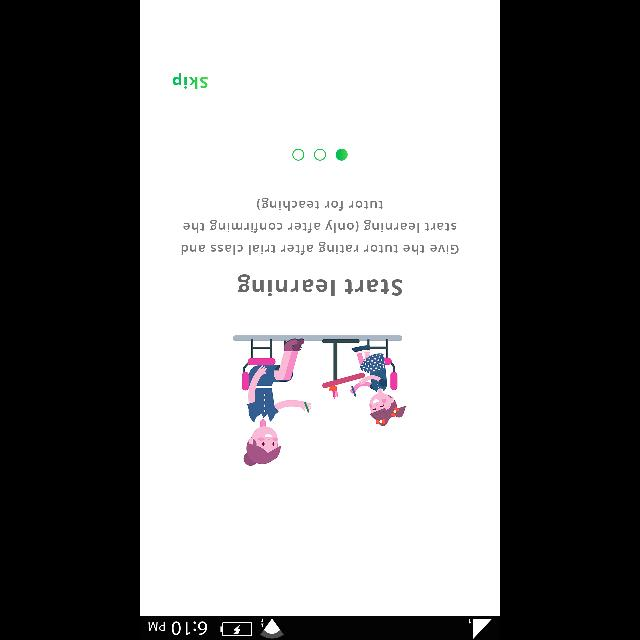image: (232, 334, 406, 466)
pageindicator: (292, 149, 348, 161)
text: (182, 197, 458, 255), (238, 274, 402, 296), (172, 73, 208, 89)
uppertaskbar: (140, 616, 500, 640)
